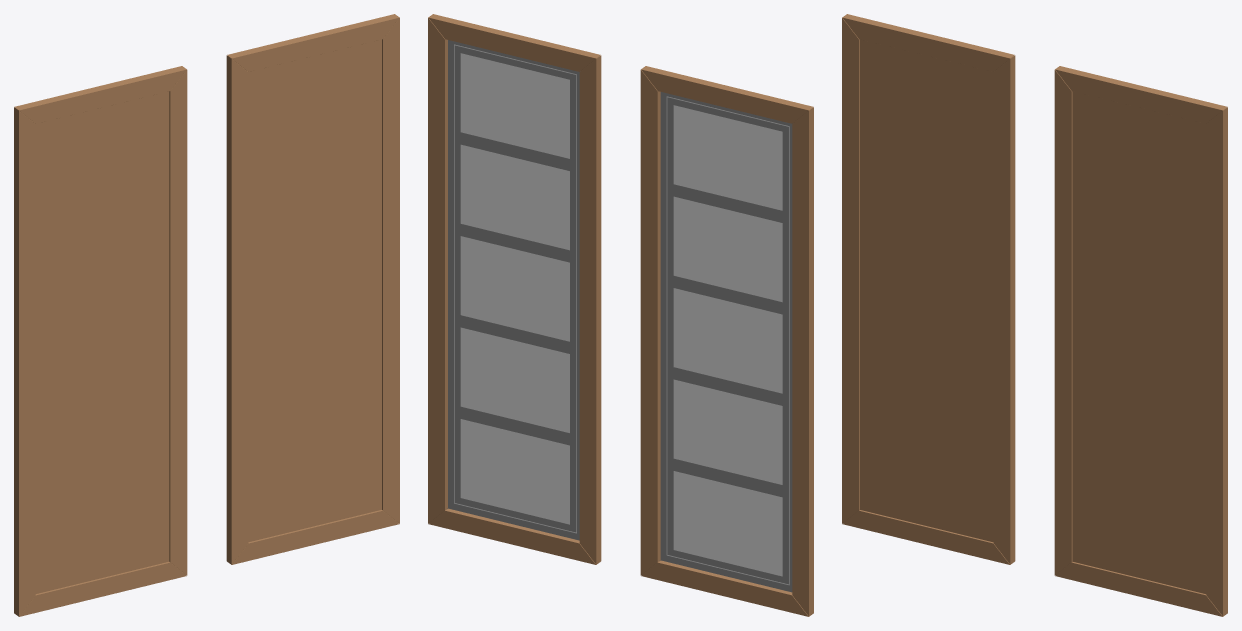
File: long photo frames.fbx
The picture shows the model from 3 angles, left to right: view 1: azimuth 30°, elevation 25°; view 2: azimuth 150°, elevation 25°; view 3: azimuth 330°, elevation 25°; orthographic projection.
Parts seen in each view (by area): view 1: PostcardFrame2, PostcardFrame1; view 2: PostcardFrame2, PostcardFrame1; view 3: PostcardFrame2, PostcardFrame1.
Boxes of the visible parts, x1,y1,x2,y2 form: PostcardFrame2: [14, 66, 187, 616]; PostcardFrame1: [226, 14, 399, 564]; PostcardFrame2: [640, 66, 813, 616]; PostcardFrame1: [428, 14, 601, 564]; PostcardFrame2: [842, 14, 1015, 564]; PostcardFrame1: [1054, 66, 1227, 616].
Size of the model in its own units: 57.5 by 73.06 by 1.27.
